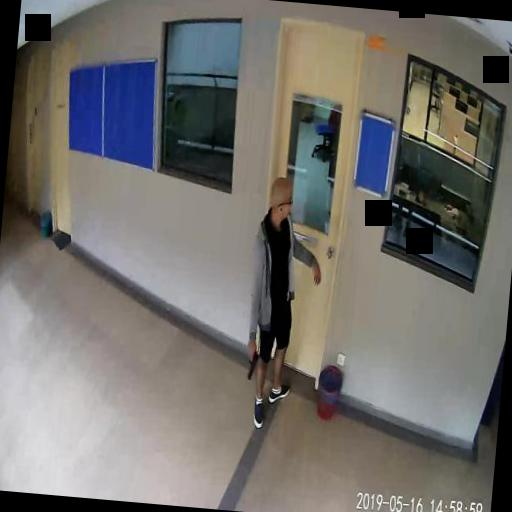Handgun: (242, 348, 258, 378)
